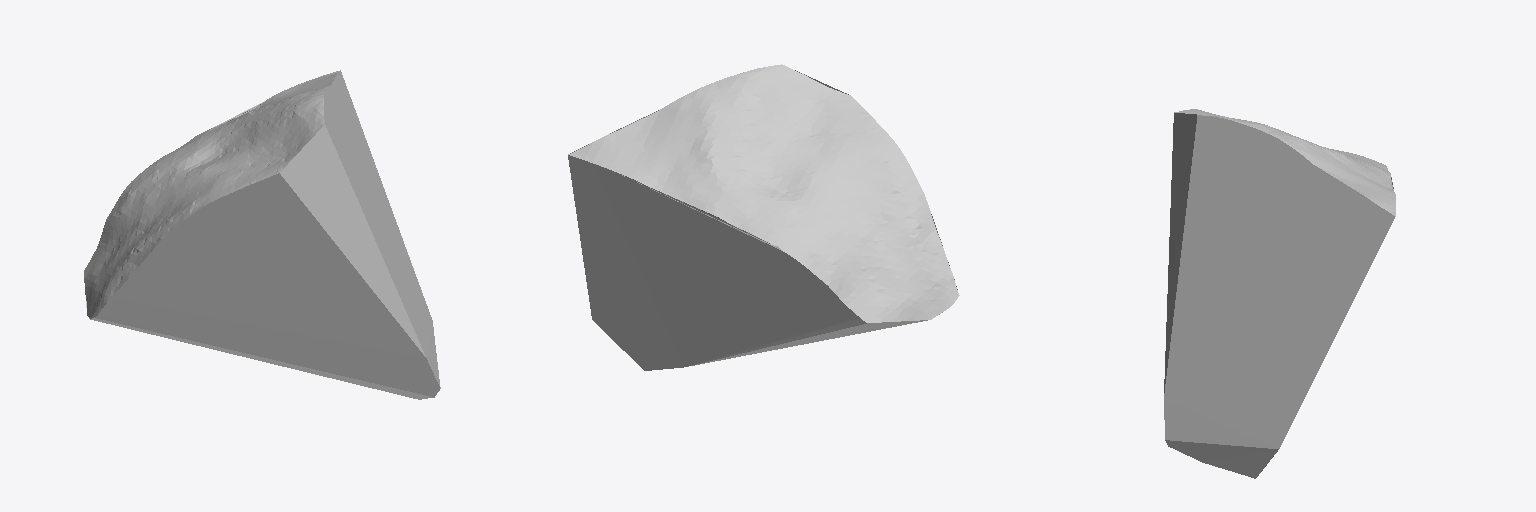
Rendered from low_cell_086.obj.
3 renders of one model, left to right at view 1: azimuth 30°, elevation 25°; view 2: azimuth 150°, elevation 25°; view 3: azimuth 270°, elevation 25°, orthographic.
Parts seen in each view (by area): view 1: low_cell.086_low_cell.085; view 2: low_cell.086_low_cell.085; view 3: low_cell.086_low_cell.085.
Part boxes in pixels (x1,y1,x2,y2): low_cell.086_low_cell.085: (84, 70, 440, 399); low_cell.086_low_cell.085: (568, 64, 959, 370); low_cell.086_low_cell.085: (1164, 109, 1395, 478).
Size of the model in its own units: 0.842 by 0.7165 by 0.4806.